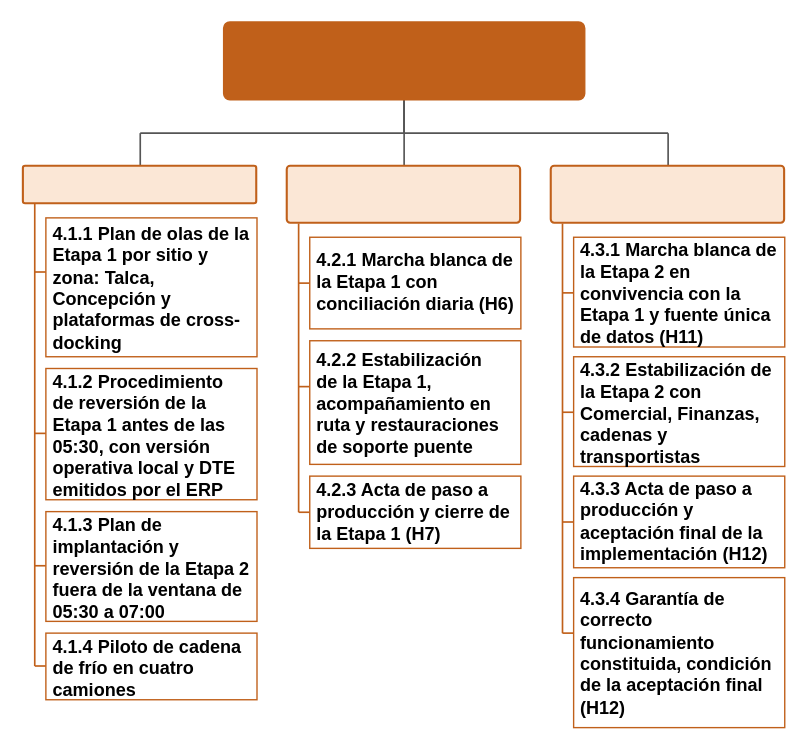
Image size: 806x750. Some labels were removed from this diagram. The shapes that lost their labels are listed below. From the top down, each one's centre as x and y in pixels, then its label:
At (403,60): "4. Transición".
At (139,184): "4.1 Plan de implantación".
At (403,193): "4.2 Marcha blanca y producción de la Etapa 1".
At (667,193): "4.3 Marcha blanca y producción de la Etapa 2".
